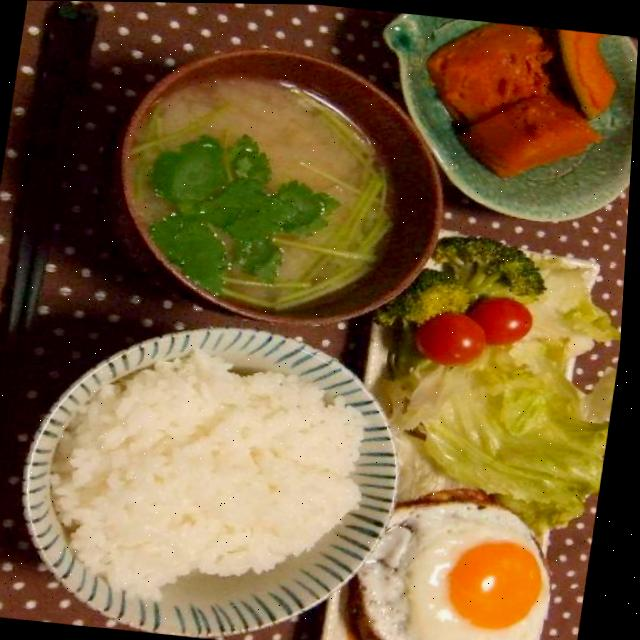汤锅炖物: (92, 19, 471, 326)
米饭主食: (29, 322, 399, 640)
鸡蛋料理: (386, 504, 571, 640)
